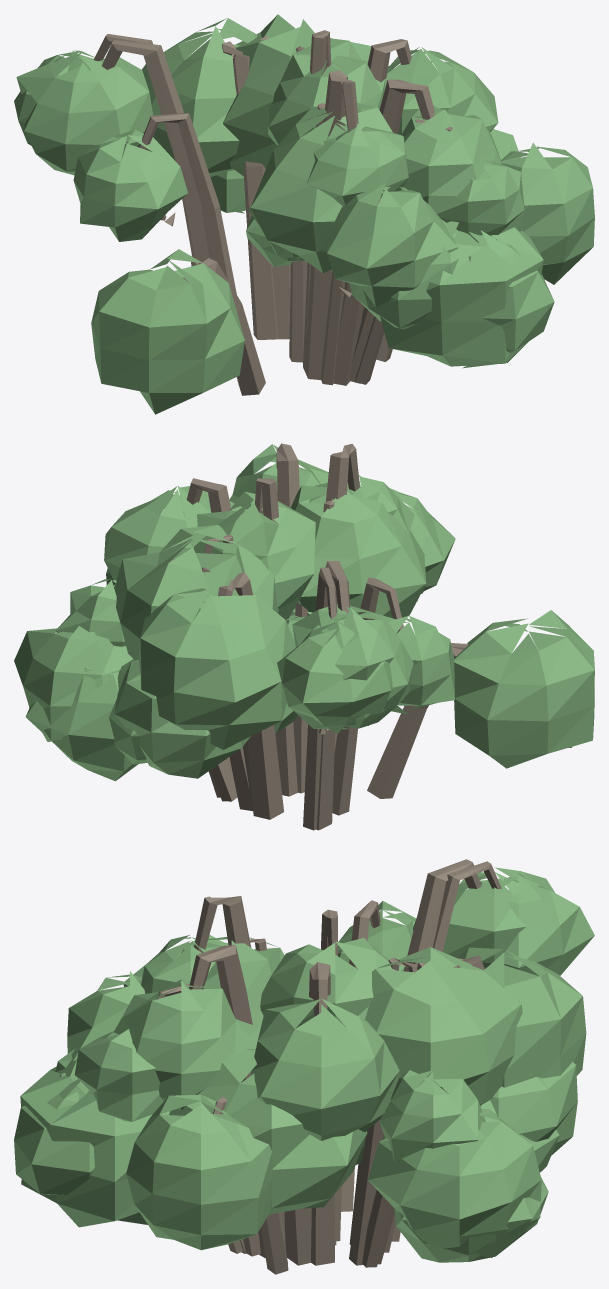
File: temperate-forest-ecology-bramble-thicket-0b0dfc8c__3837.glb
3 views of the same model, one above another, from view 1: azimuth 30°, elevation 25°; view 2: azimuth 150°, elevation 25°; view 3: azimuth 270°, elevation 25° (orthographic). The views are drawn at different scales.
Parts seen in each view (by area): view 1: bramble-thicket; view 2: bramble-thicket; view 3: bramble-thicket.
Part boxes in pixels (<box>): bramble-thicket: <box>14,14,594,414</box>; bramble-thicket: <box>14,443,594,830</box>; bramble-thicket: <box>14,859,594,1274</box>.
Size of the model in its own units: 3.44 by 2.14 by 3.3.
